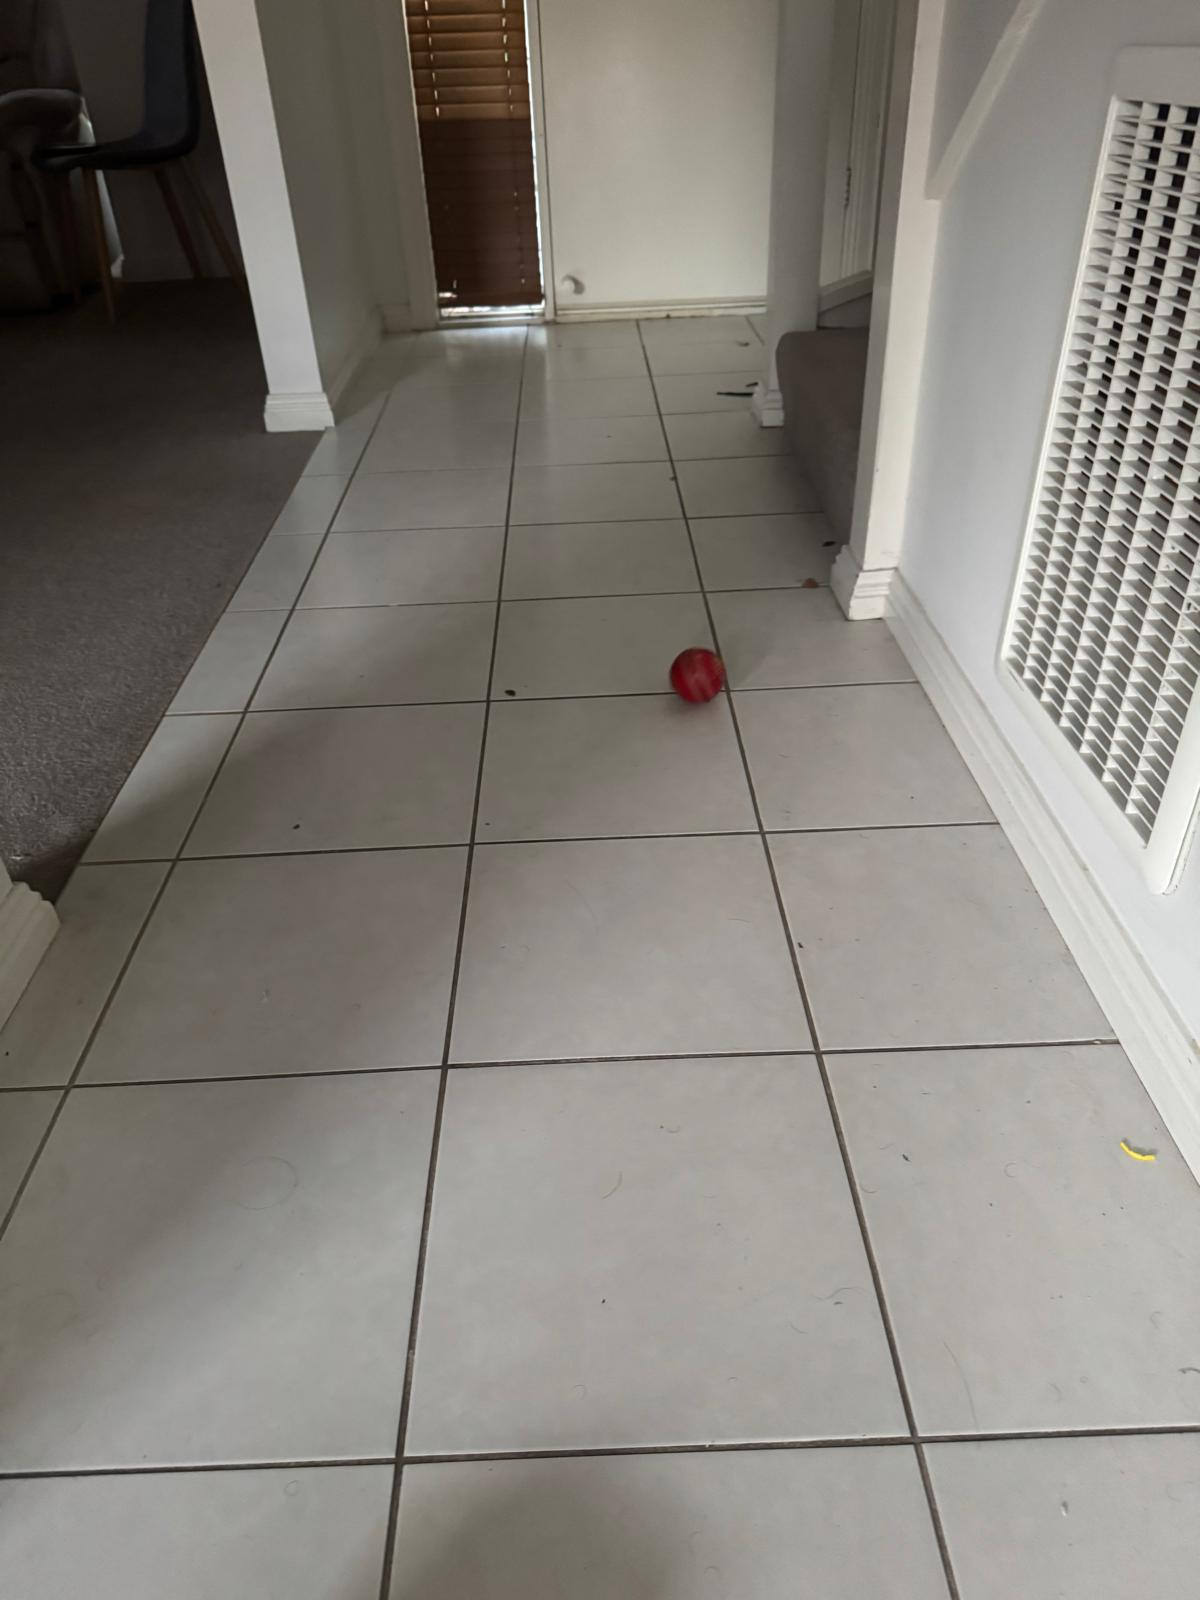Red_Ball: (666, 634, 730, 712)
